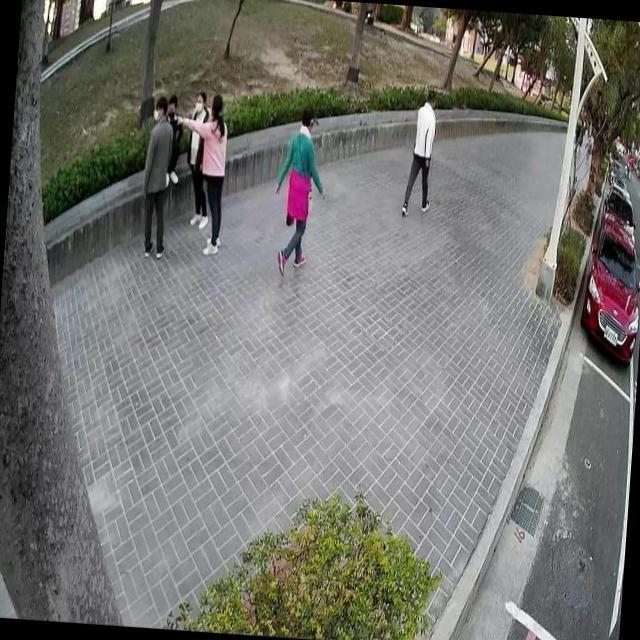person: (161, 82, 233, 258), (266, 99, 334, 282), (136, 90, 178, 262), (177, 83, 217, 230), (399, 84, 441, 220), (160, 92, 188, 192)
